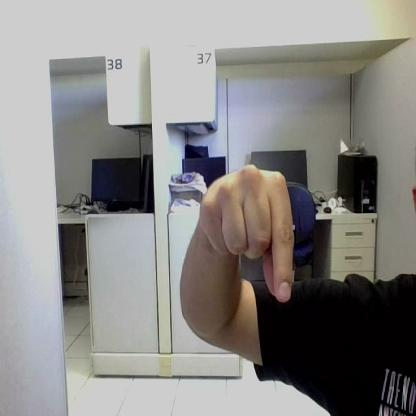Q: (200, 166, 292, 302)
